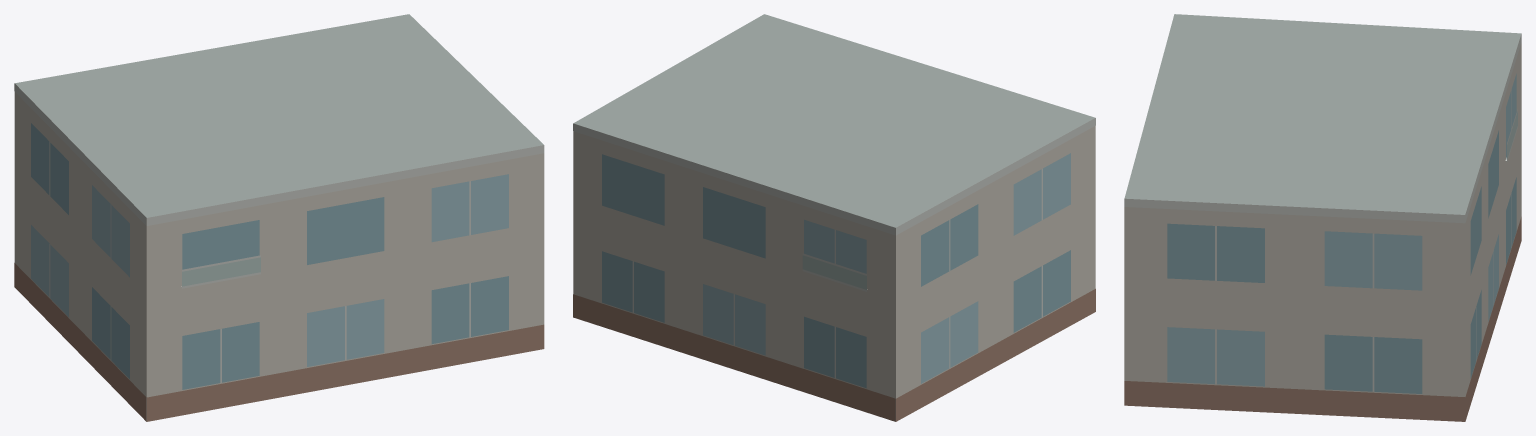
Rendered from survey-upis-32804598.glb.
The picture shows the model from 3 angles, left to right: view 1: azimuth 30°, elevation 25°; view 2: azimuth 150°, elevation 25°; view 3: azimuth 270°, elevation 25°; orthographic projection. The views are drawn at different scales.
Parts seen in each view (by area): view 1: survey-upis-32804598.tmp; view 2: survey-upis-32804598.tmp; view 3: survey-upis-32804598.tmp.
Part boxes in pixels (x1,y1,x2,y2): survey-upis-32804598.tmp: [14, 14, 544, 421]; survey-upis-32804598.tmp: [573, 14, 1095, 421]; survey-upis-32804598.tmp: [1124, 14, 1521, 421].
Bounding box in the file's own units: 12.72 × 6.1 × 10.63.
